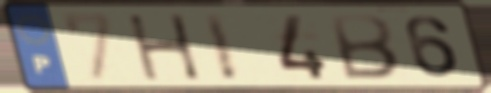4: (275, 13, 330, 82)
6: (402, 14, 462, 80)
7: (57, 10, 123, 85)
B: (326, 12, 403, 82)
H: (123, 12, 205, 83)
I: (200, 11, 243, 84)
